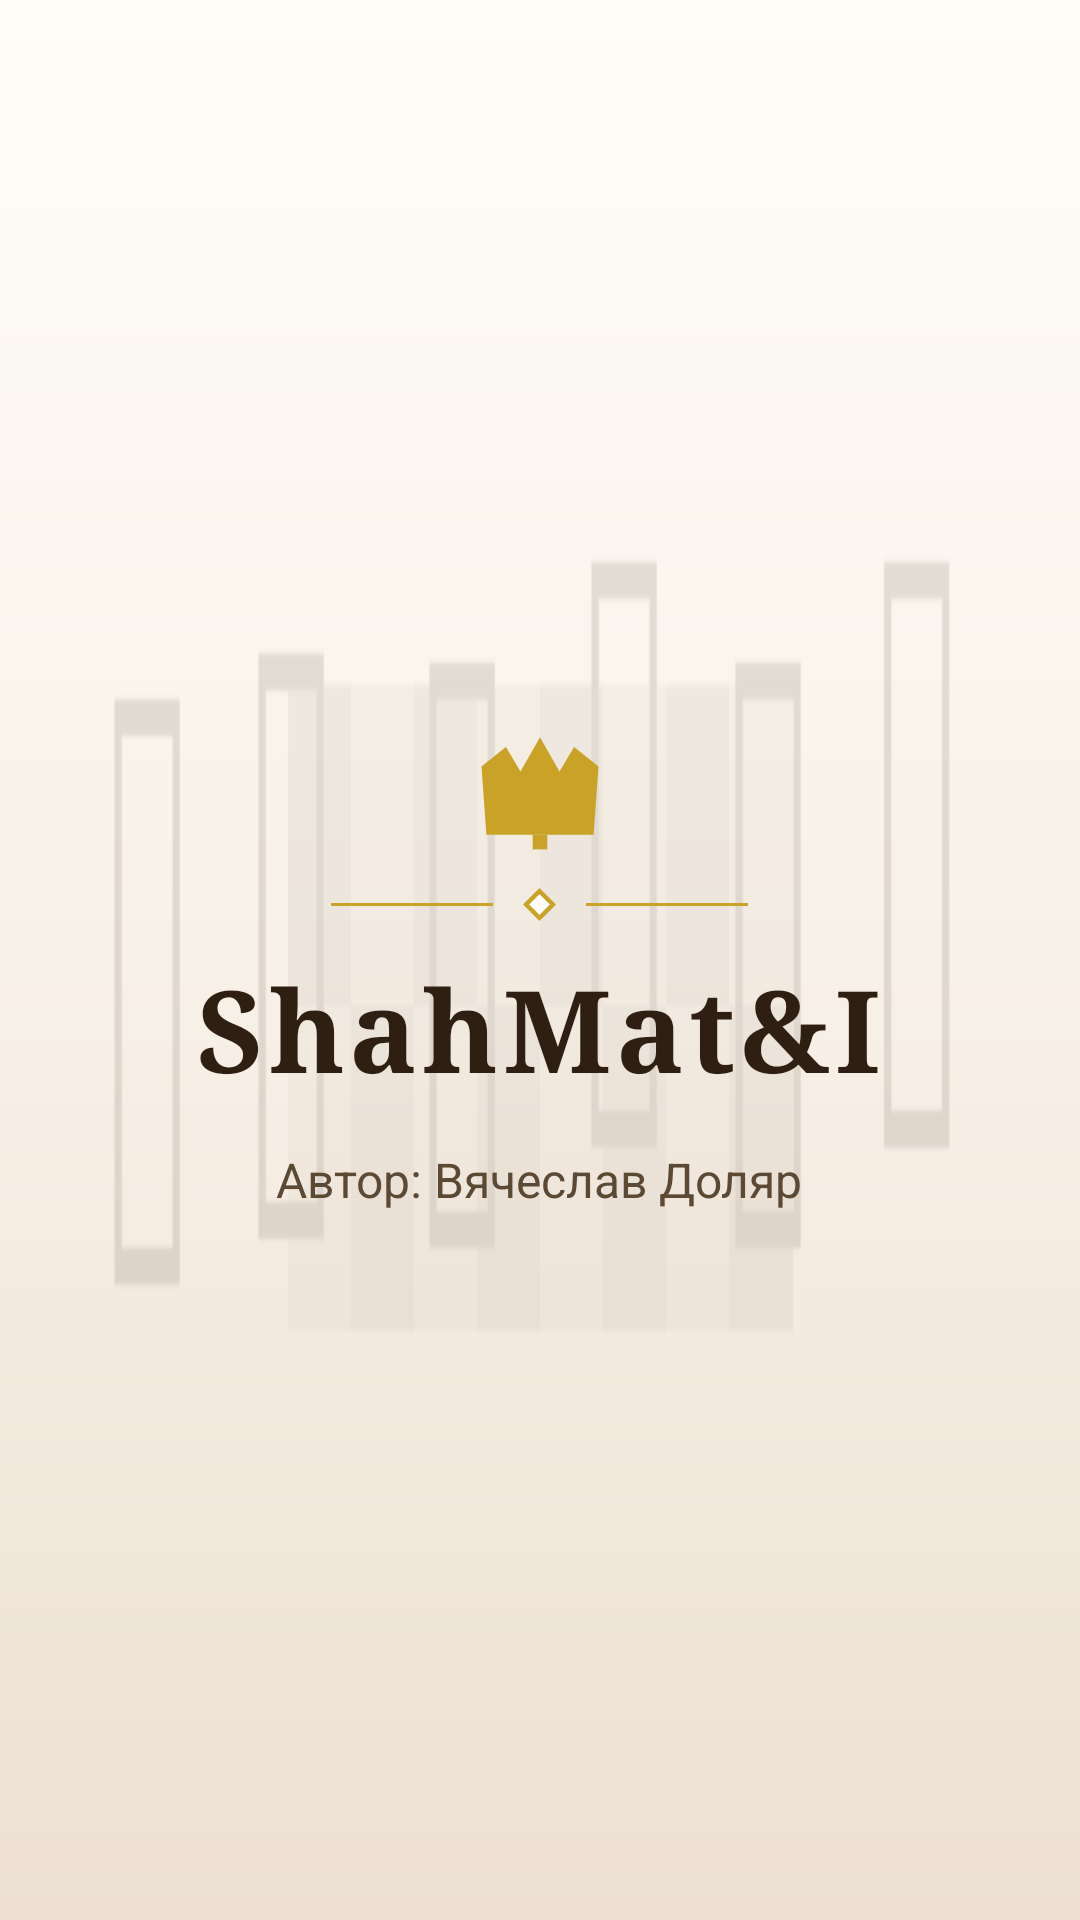

Point at icon controls on the screen. Image size 1080 x 1920, points as point (x, y).
chess crown: point (540, 793)
gold diamond: point (539, 904)
